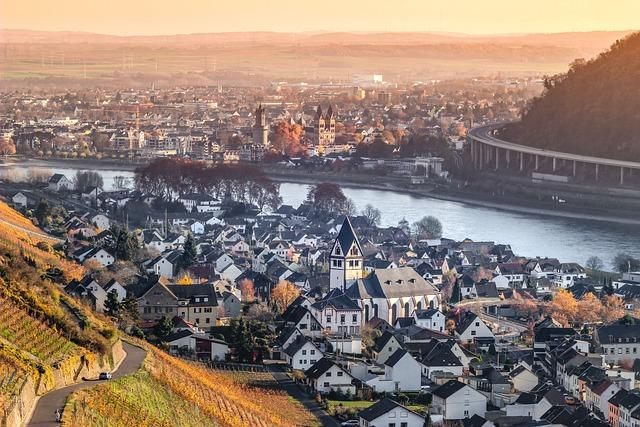Non_Gorille: (2, 0, 640, 423)
